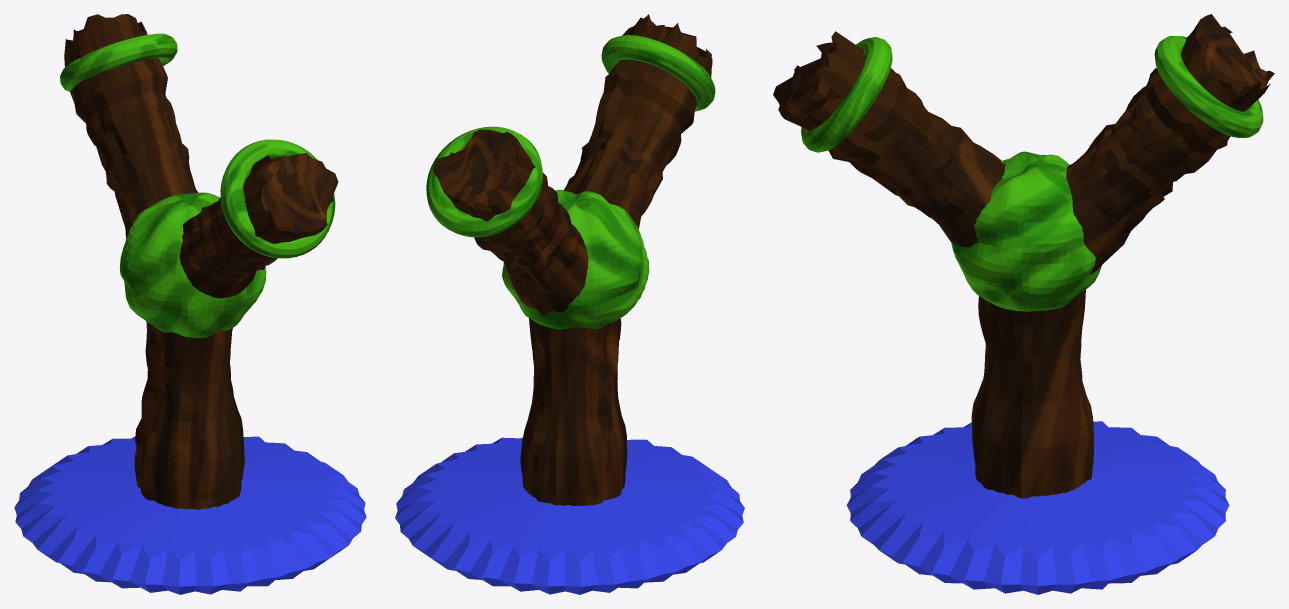
Rendered from Slingshot.fbx.
The picture shows the model from 3 angles, left to right: view 1: azimuth 30°, elevation 25°; view 2: azimuth 150°, elevation 25°; view 3: azimuth 270°, elevation 25°; orthographic projection. The views are drawn at different scales.
Parts seen in each view (by area): view 1: Cylinder.003, Cylinder, Cylinder.001, Cylinder.002, Sphere, Torus.001, Torus; view 2: Cylinder.003, Cylinder, Cylinder.001, Cylinder.002, Sphere, Torus, Torus.001; view 3: Cylinder.003, Cylinder, Cylinder.001, Cylinder.002, Sphere, Torus, Torus.001.
Boxes of the visible parts, left/top/right/bottom form: Cylinder.003: left=14, top=436, right=366, bottom=594; Cylinder: left=134, top=321, right=244, bottom=509; Cylinder.001: left=64, top=14, right=197, bottom=239; Cylinder.002: left=179, top=153, right=338, bottom=298; Sphere: left=119, top=192, right=266, bottom=337; Torus.001: left=220, top=139, right=335, bottom=258; Torus: left=60, top=33, right=177, bottom=91; Cylinder.003: left=395, top=437, right=744, bottom=594; Cylinder: left=520, top=318, right=627, bottom=505; Cylinder.001: left=433, top=129, right=588, bottom=315; Cylinder.002: left=564, top=14, right=712, bottom=229; Sphere: left=502, top=189, right=649, bottom=329; Torus: left=426, top=126, right=542, bottom=237; Torus.001: left=601, top=35, right=715, bottom=111; Cylinder.003: left=846, top=421, right=1229, bottom=594; Cylinder: left=971, top=289, right=1094, bottom=498; Cylinder.001: left=1066, top=14, right=1274, bottom=274; Cylinder.002: left=773, top=31, right=1005, bottom=247; Sphere: left=951, top=151, right=1101, bottom=311; Torus: left=1154, top=36, right=1263, bottom=137; Torus.001: left=801, top=37, right=892, bottom=152.
Size of the model in its own units: 188 by 281 by 247.
